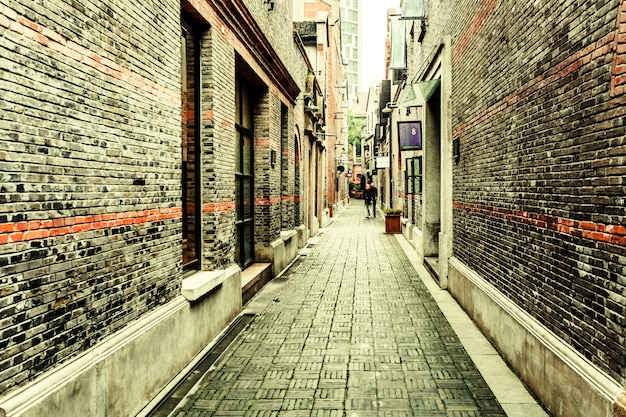Wall: (11, 26, 151, 304), (469, 29, 615, 268)
